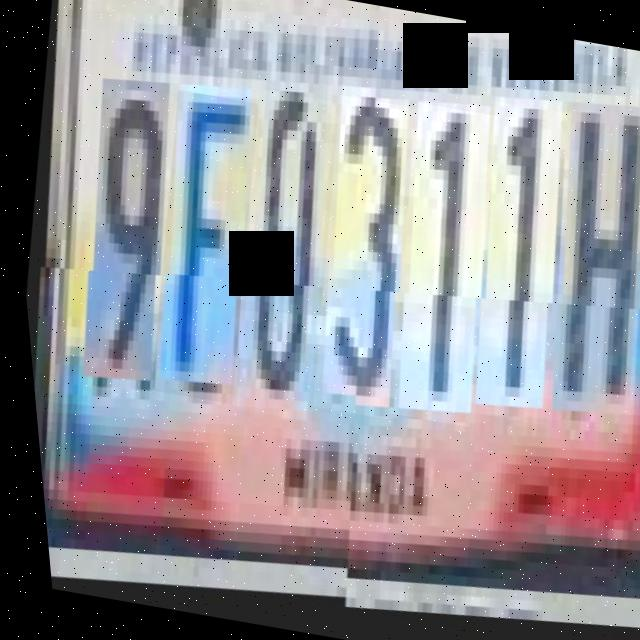0: (206, 89, 355, 421)
1: (360, 102, 516, 428), (437, 100, 589, 424)
3: (283, 96, 436, 420)
9: (46, 83, 196, 398)
F: (123, 90, 277, 405)
H: (512, 106, 640, 432)
